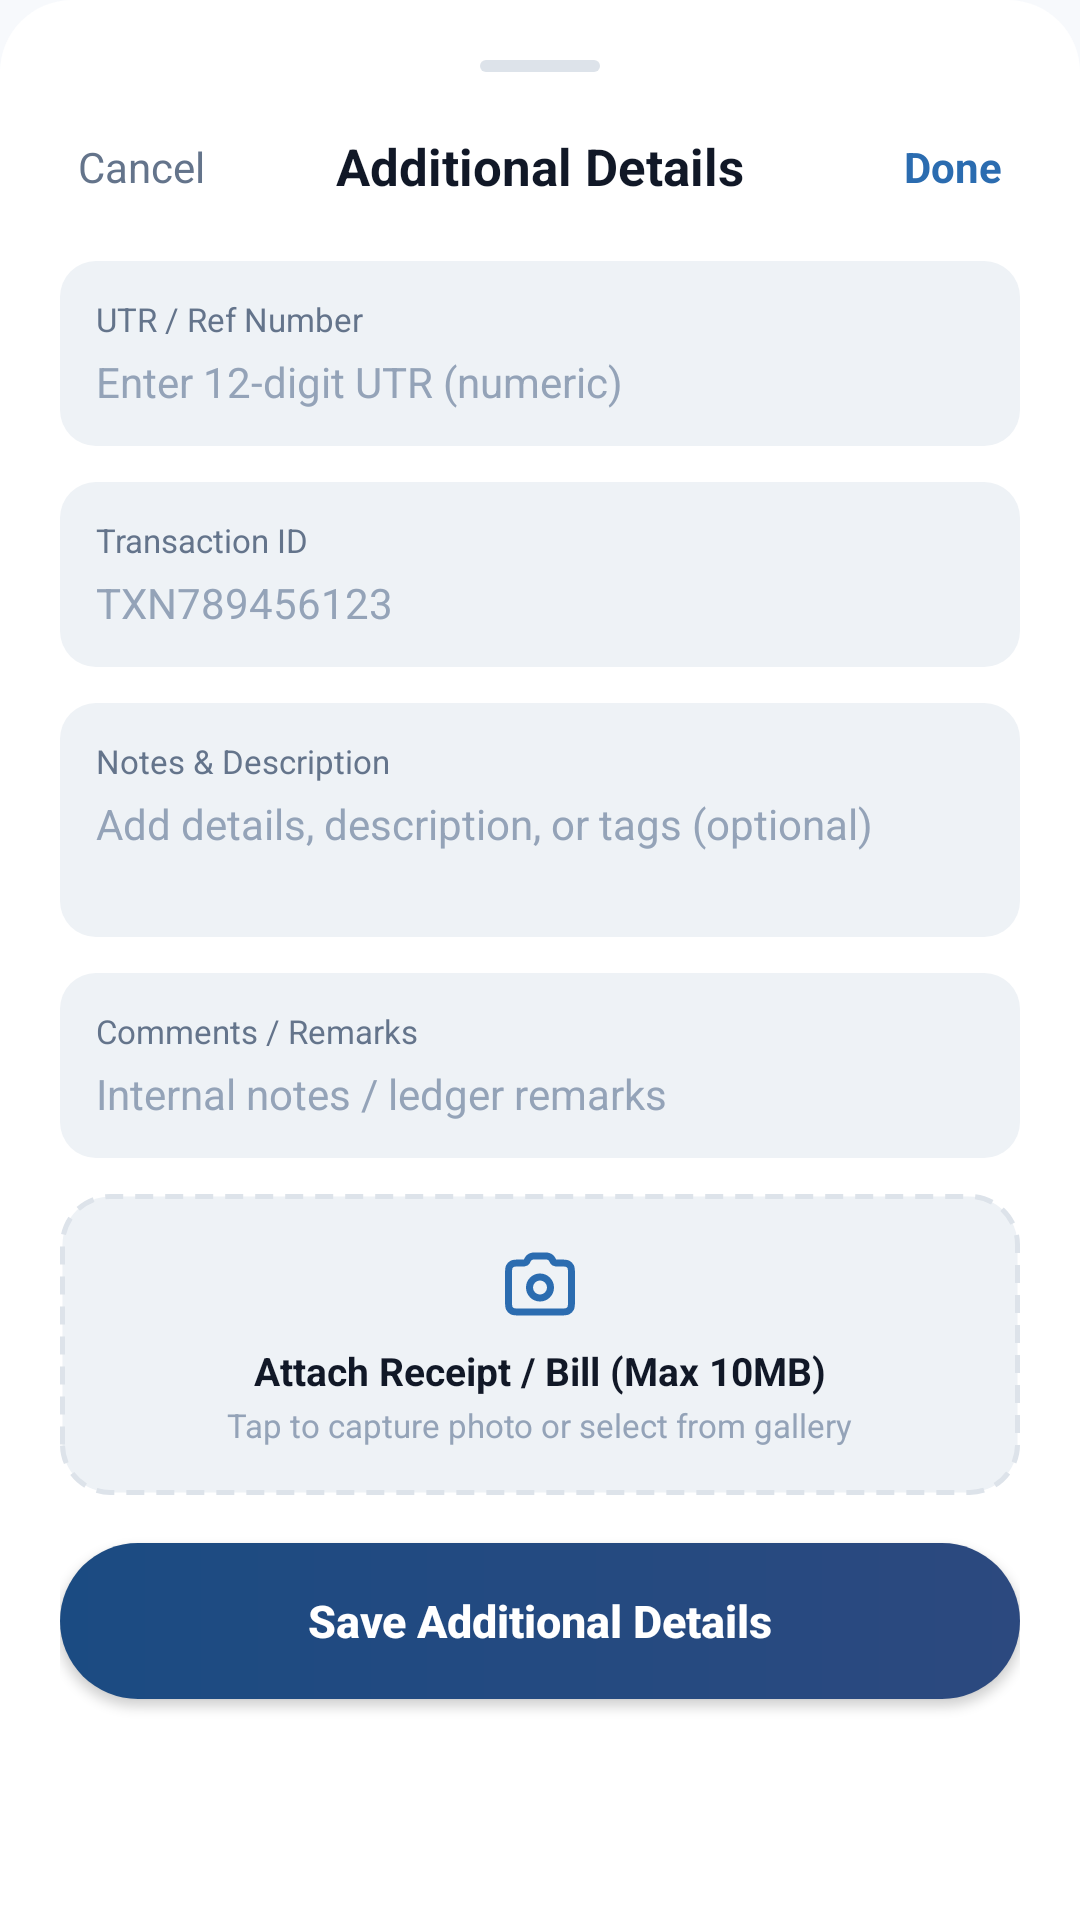

Icon click points for this 1080 x 1920 phone screenshot, format (x=x, y=y):
camera: (x=540, y=1284)
